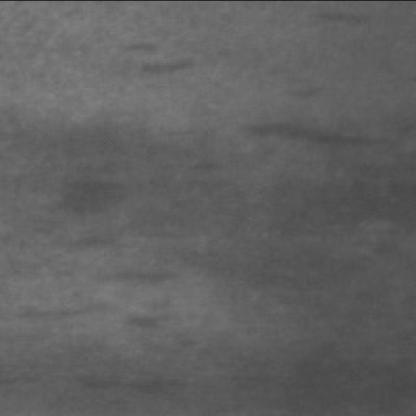inclusion: (10, 289, 184, 343), (235, 114, 395, 164), (60, 360, 210, 403), (123, 52, 210, 85)
